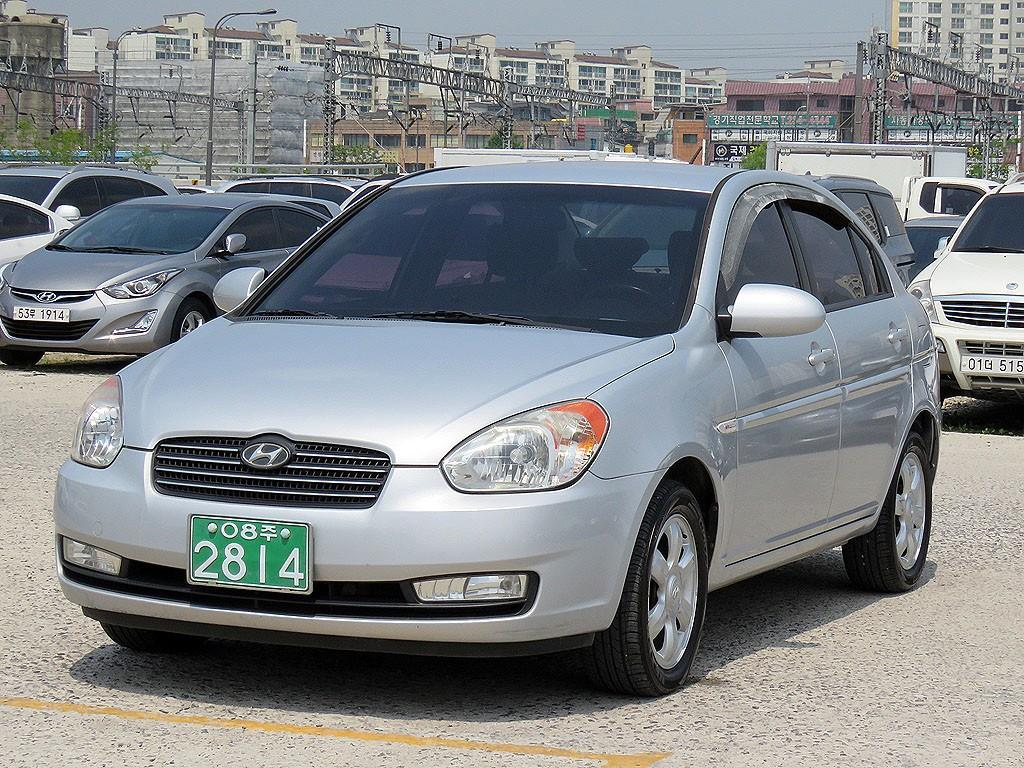plate: (191, 517, 307, 590)
